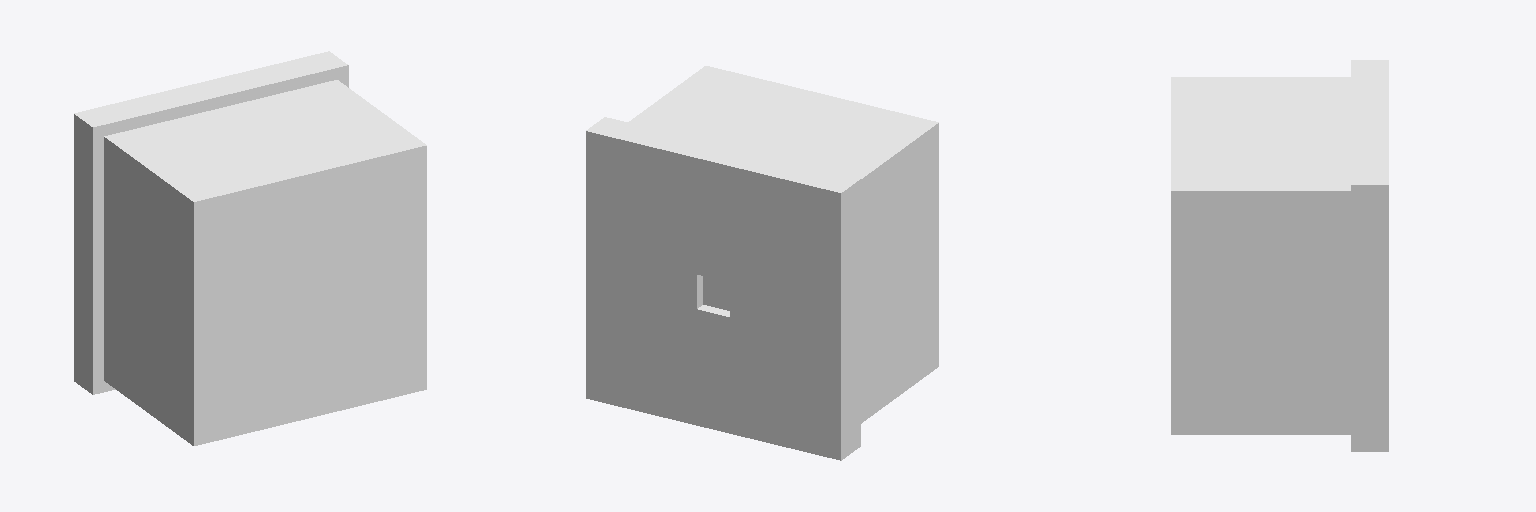
Rendered from pistonExtender.obj.
The picture shows the model from 3 angles: view 1: azimuth 30°, elevation 25°; view 2: azimuth 150°, elevation 25°; view 3: azimuth 270°, elevation 25°; orthographic projection.
Bounding box in the file's own units: 0.92 × 0.92 × 0.68.